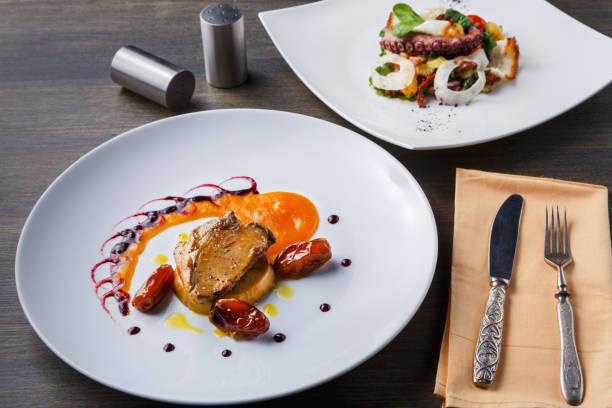Braised Crucian Carp: (16, 108, 430, 405), (260, 1, 610, 153)
